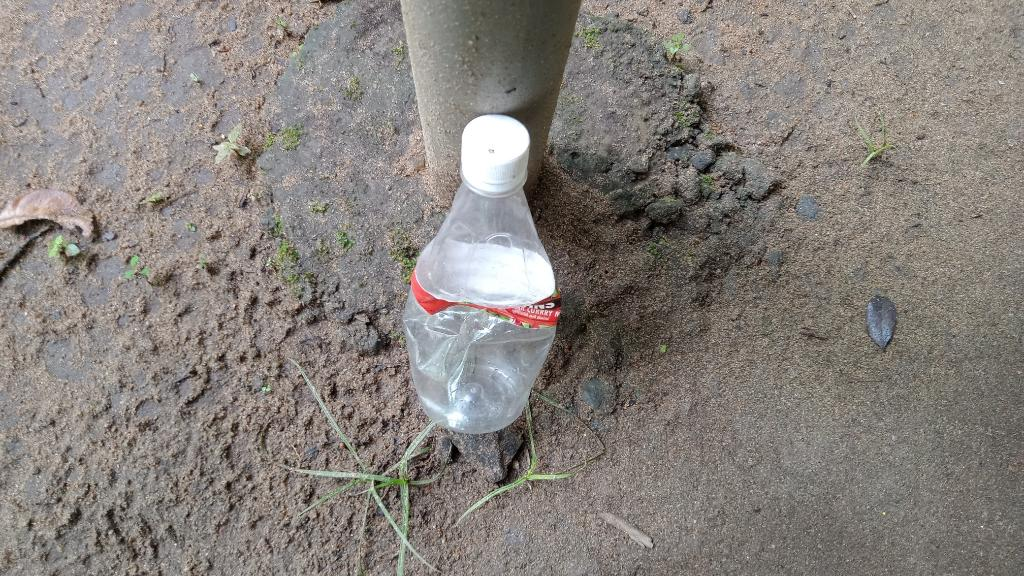garbage: (371, 101, 580, 454)
